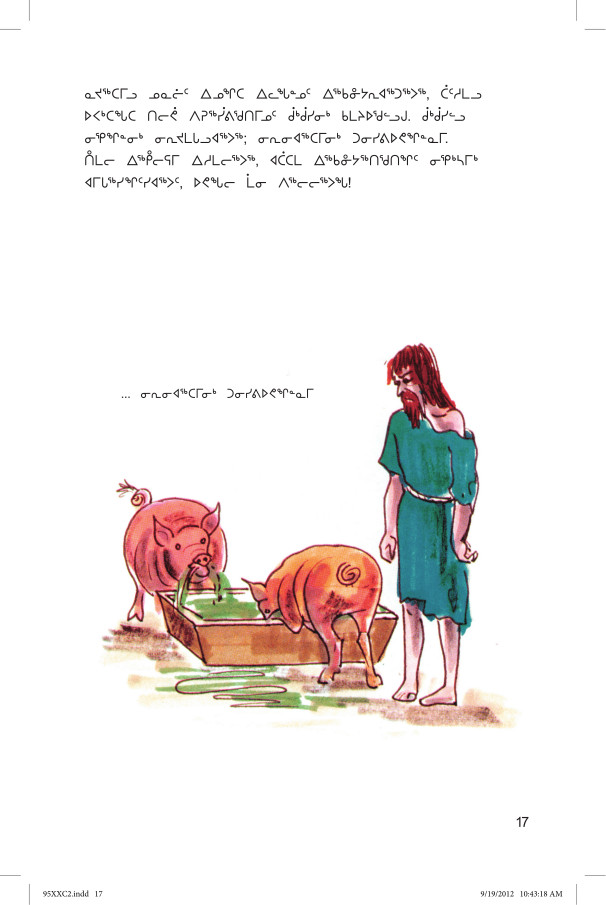inuktitut: (77, 79, 493, 199), (133, 376, 317, 405)
